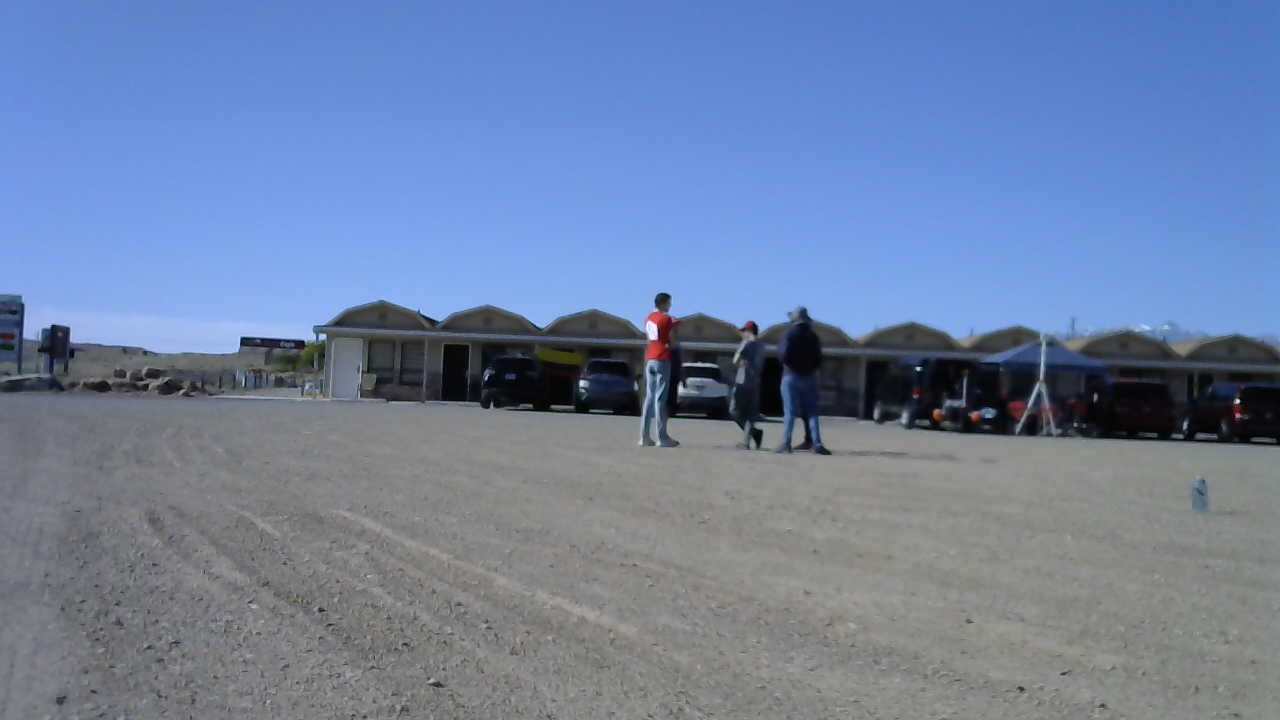bottle: (1188, 471, 1210, 513)
